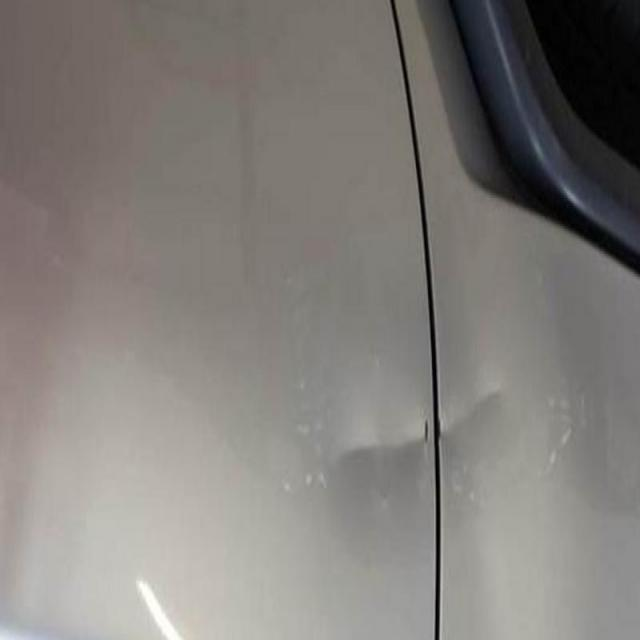dent: (316, 343, 519, 539)
